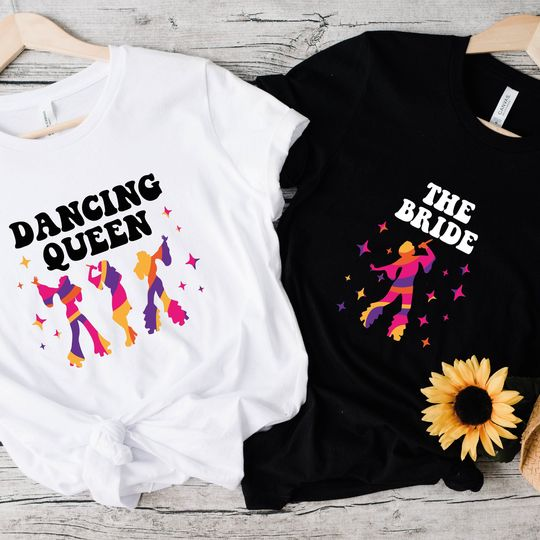design: (5, 169, 206, 369), (333, 178, 481, 350)
